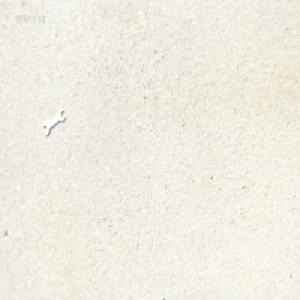Wrench: (41, 107, 64, 138)
